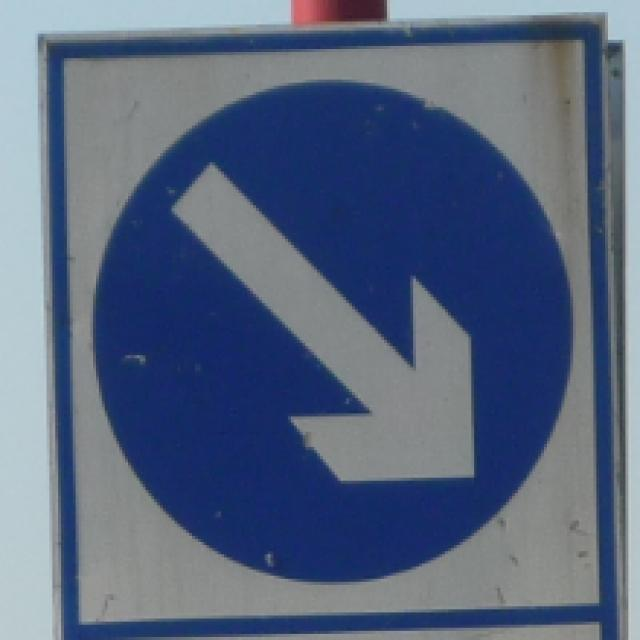Right: (88, 77, 572, 586)
